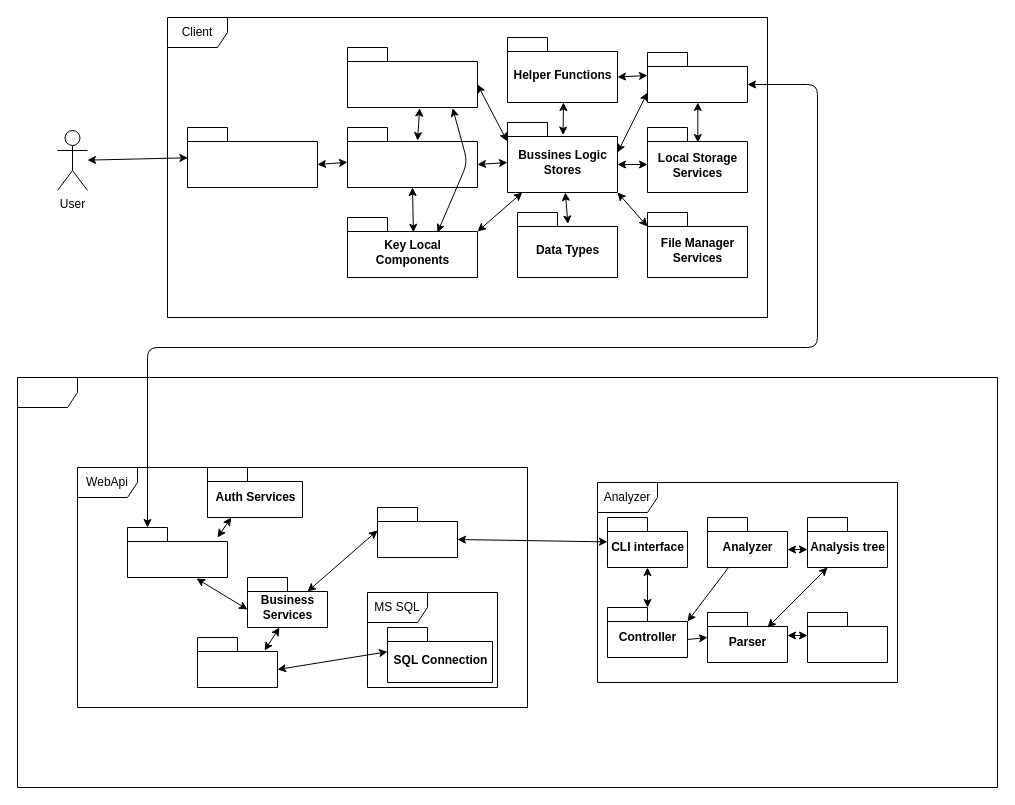
The diagram is 1015 pixels wide and 805 high, and some of its shapes have lost their labels. The shapes that lost their labels are listed below. From the top down, each one's box as (x1, y1, x2, y2) in pixels, then its label:
(346, 46, 478, 108): Shared Components
(646, 52, 748, 102): Data Accesors
(186, 126, 318, 188): Page Components
(346, 126, 478, 188): Main Components
(126, 526, 228, 578): API Controllers
(376, 506, 458, 558): CLI Service
(16, 376, 998, 788): Server
(806, 612, 888, 662): Rule loader
(196, 636, 278, 688): DB Context
